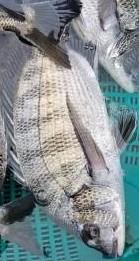fish: (2, 27, 137, 258)
